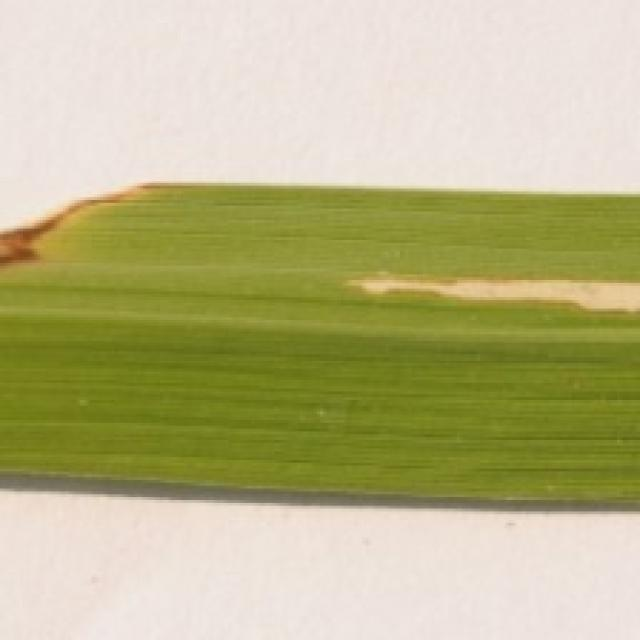Rice___Bacterial_Leaf_Blight: (0, 182, 637, 505)
